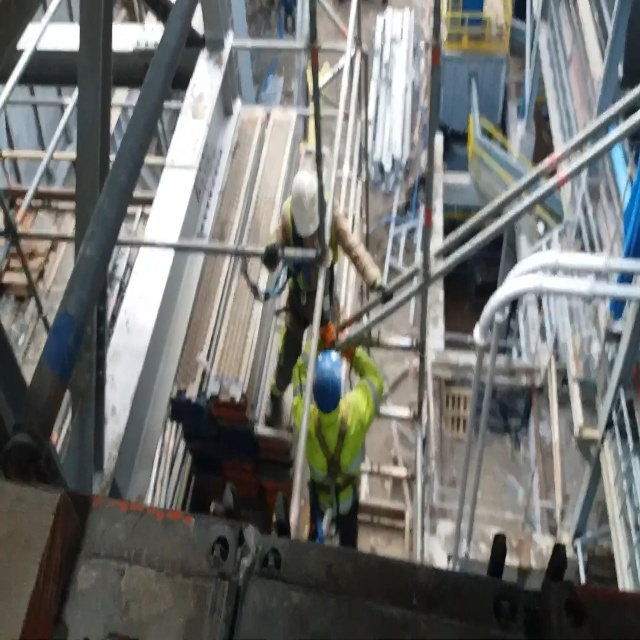Arnes_seguridad: (282, 185, 336, 328), (303, 399, 360, 521)
